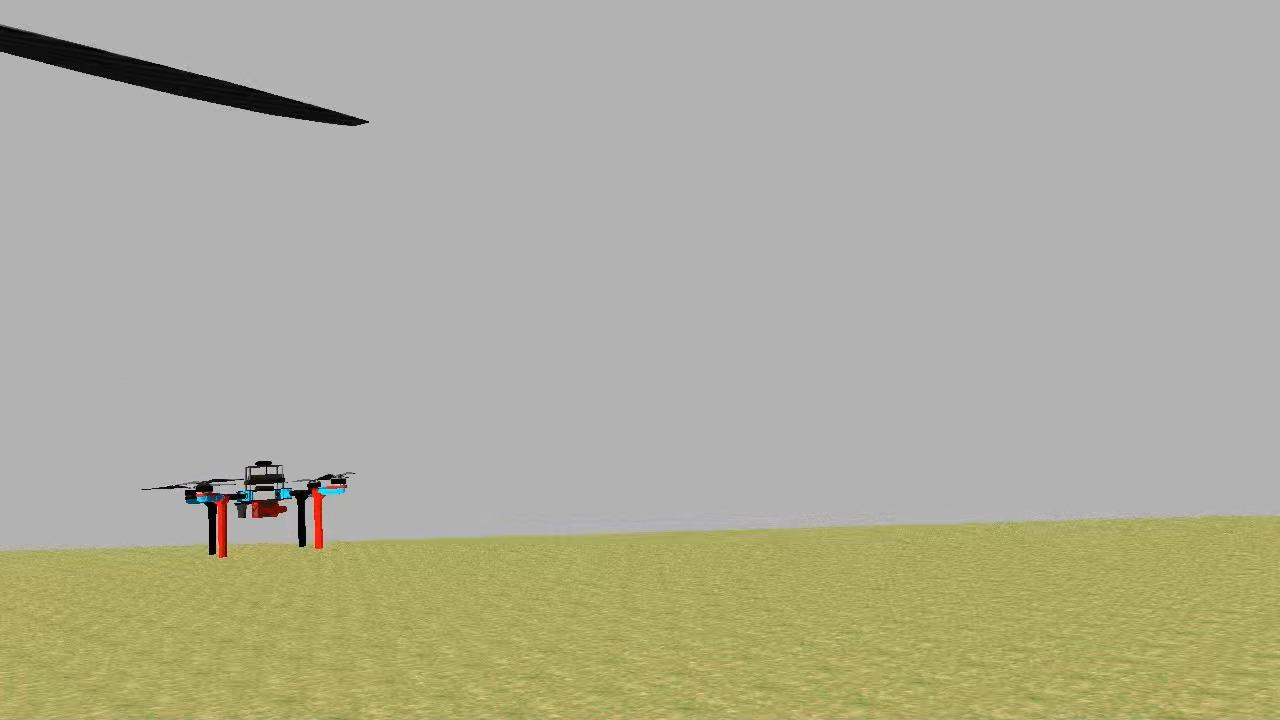UAV: (177, 450, 354, 557)
